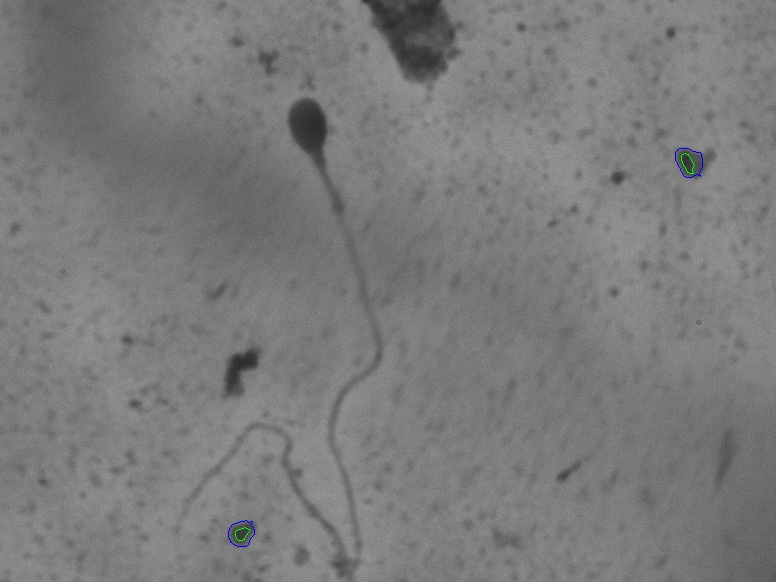Normal: (149, 74, 429, 579)
